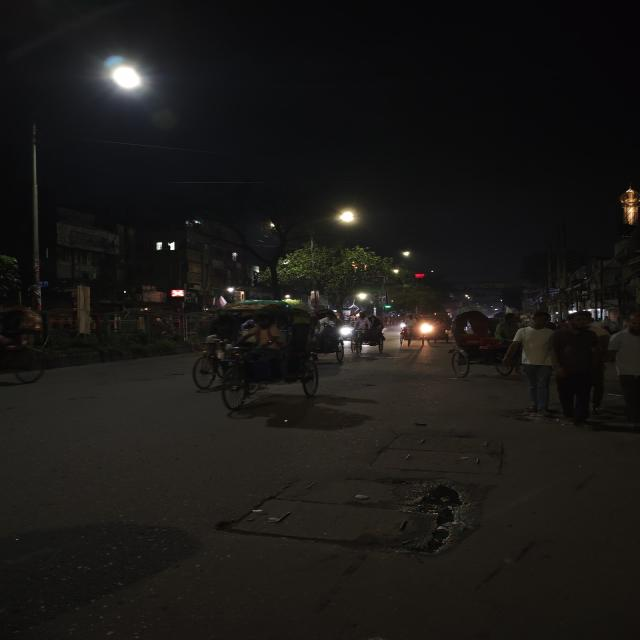pedestrian: (554, 309, 611, 425), (507, 309, 556, 419), (605, 312, 640, 430)
rickshaw: (184, 298, 326, 412), (444, 306, 519, 380), (349, 314, 390, 356), (318, 311, 348, 363), (396, 314, 426, 348)
